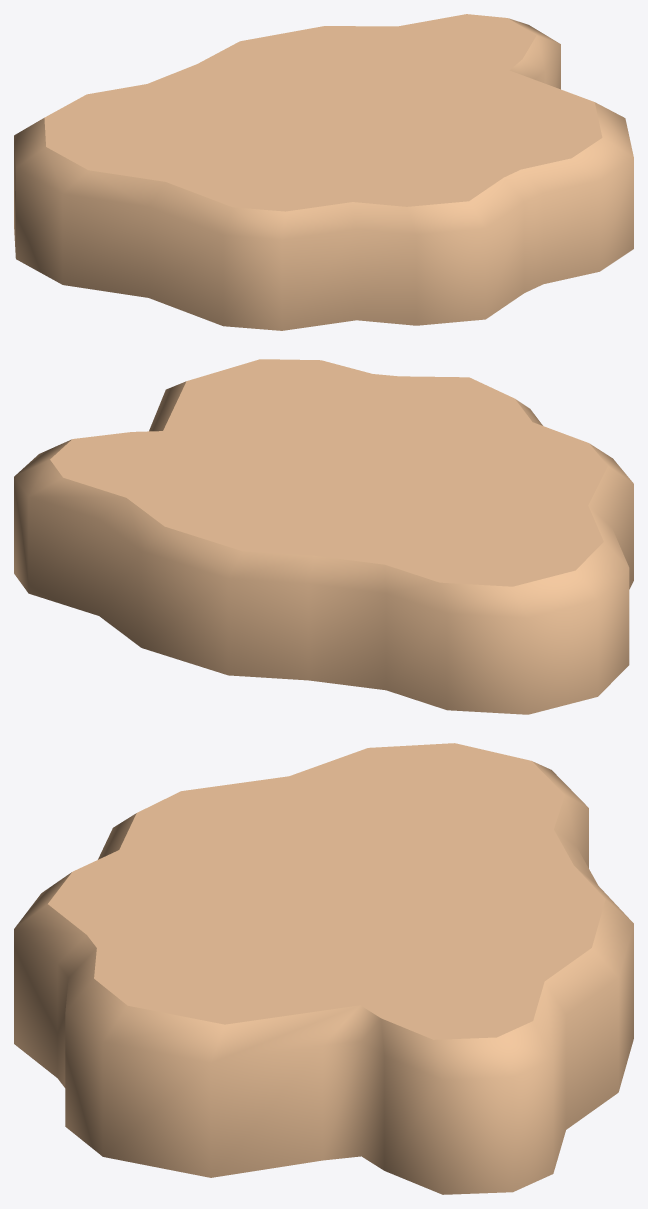
The picture shows the model from 3 angles, top to bottom: view 1: azimuth 30°, elevation 25°; view 2: azimuth 150°, elevation 25°; view 3: azimuth 270°, elevation 25°; orthographic projection. The views are drawn at different scales.
Visible parts, largest first — view 1: patch-sand.004; view 2: patch-sand.004; view 3: patch-sand.004.
Boxes of the visible parts, bbox=[...] form: patch-sand.004: bbox=[14, 14, 633, 330]; patch-sand.004: bbox=[14, 359, 633, 714]; patch-sand.004: bbox=[14, 743, 633, 1194].
Size of the model in its own units: 12.98 by 2.53 by 10.31.
